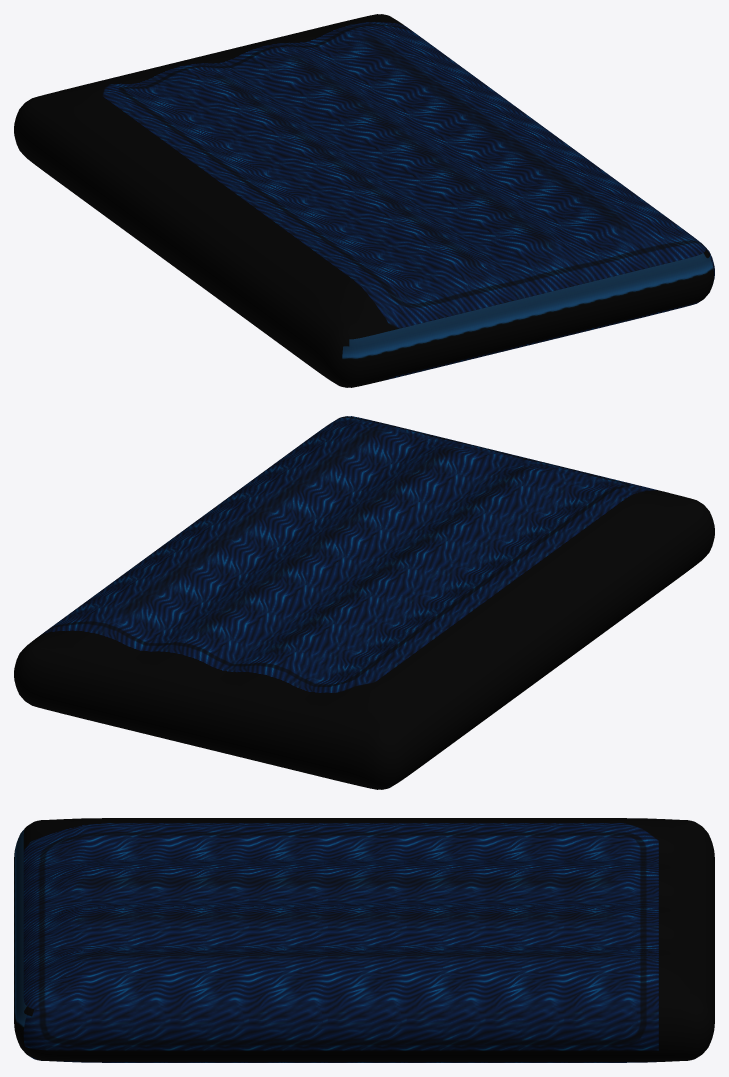
The model's file is Mattress(Textured).FBX.
The picture shows the model from 3 angles, top to bottom: view 1: azimuth 30°, elevation 25°; view 2: azimuth 150°, elevation 25°; view 3: azimuth 270°, elevation 25°; orthographic projection. The views are drawn at different scales.
Visible parts, largest first — view 1: ChamferBox031; view 2: ChamferBox031; view 3: ChamferBox031.
Boxes of the visible parts, box(x1,y1,x2,y2) form: ChamferBox031: box(14, 14, 714, 387); ChamferBox031: box(14, 416, 714, 789); ChamferBox031: box(14, 818, 714, 1062).
Size of the model in its own units: 354 by 81.97 by 532.
